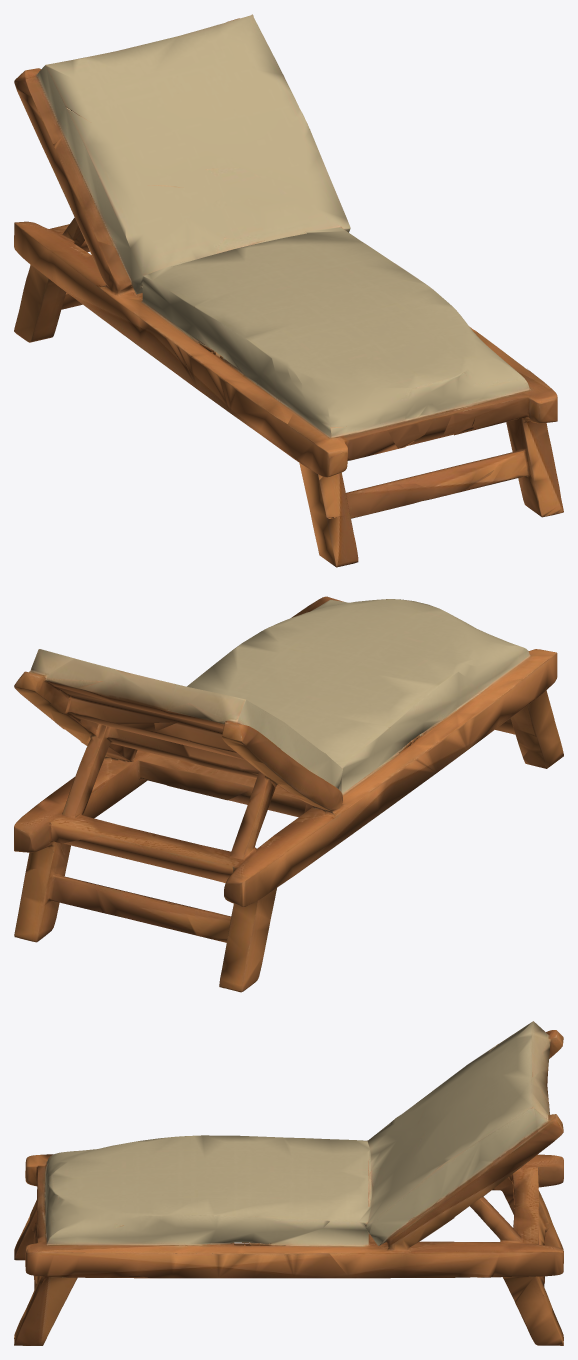
The model's file is lounger.glb.
The picture shows the model from 3 angles, top to bottom: view 1: azimuth 30°, elevation 25°; view 2: azimuth 150°, elevation 25°; view 3: azimuth 270°, elevation 25°; orthographic projection. The views are drawn at different scales.
Visible parts, largest first — view 1: Mesh_0; view 2: Mesh_0; view 3: Mesh_0.
Part boxes in pixels (x1=…): Mesh_0: x1=14, y1=14, x2=563, y2=567; Mesh_0: x1=14, y1=596, x2=563, y2=992; Mesh_0: x1=14, y1=1021, x2=563, y2=1345.
Bounding box in the file's own units: 0.818 × 0.906 × 1.91.
Materials: 1 (1 with a texture image).
